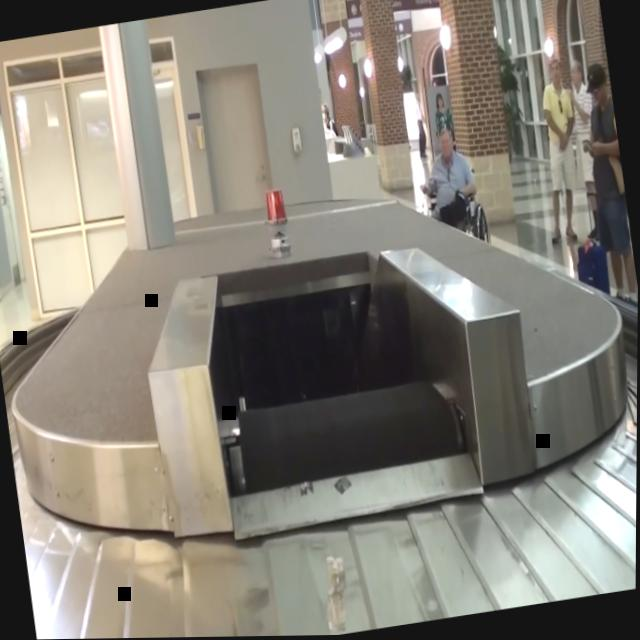luggage: (573, 240, 614, 304)
